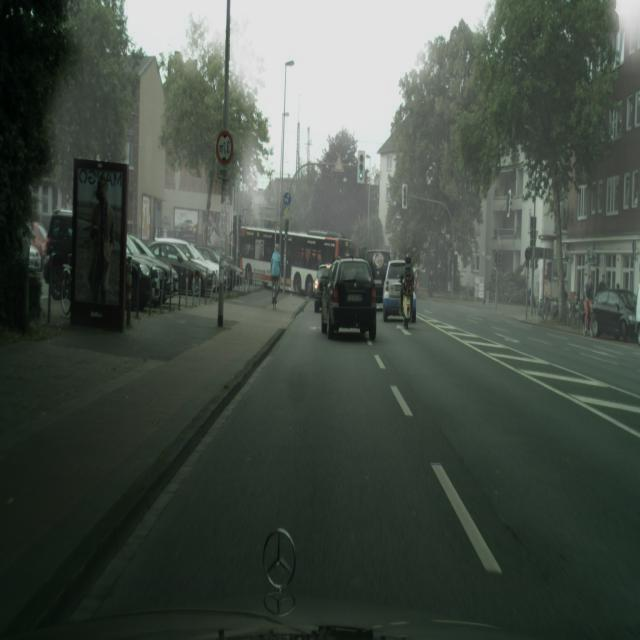bicycle: (238, 225, 354, 296)
car: (49, 256, 72, 316), (272, 278, 278, 309)
person: (88, 176, 114, 305), (400, 259, 416, 326), (583, 273, 594, 336), (271, 244, 282, 304)
truck: (320, 256, 377, 342), (148, 238, 218, 294), (127, 234, 172, 304), (591, 289, 638, 342), (42, 208, 73, 286), (382, 259, 407, 321), (27, 220, 49, 271), (313, 263, 332, 312)
